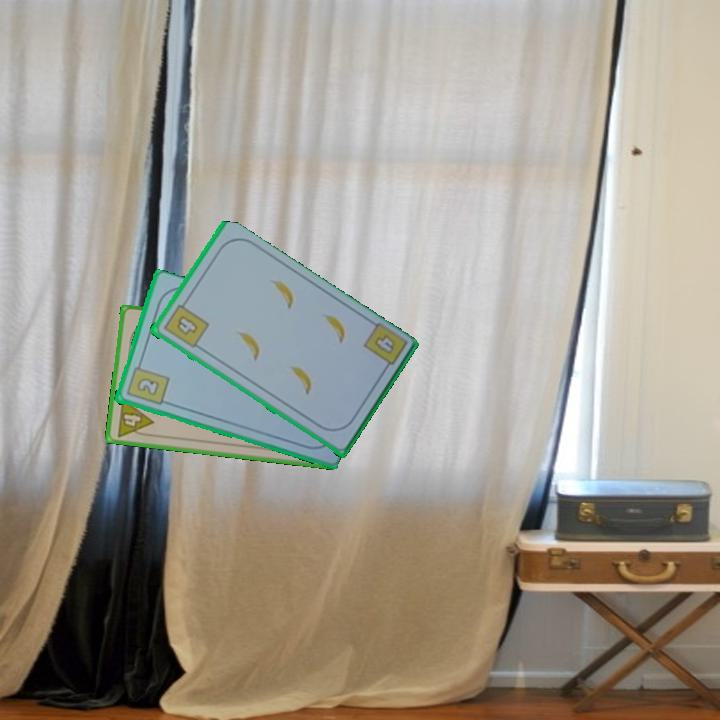2b: (123, 358, 171, 408)
4b: (159, 297, 211, 351), (359, 320, 409, 376)
4p: (113, 395, 156, 440)
